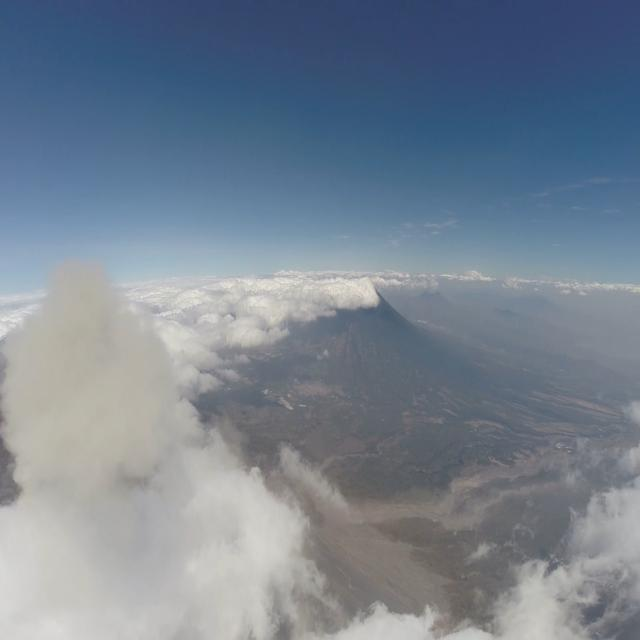Plume: (3, 257, 179, 499)
